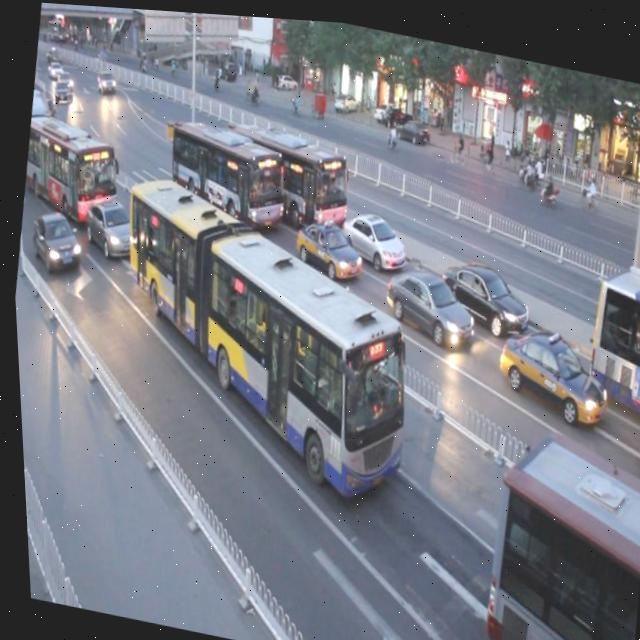car: (485, 319, 608, 424), (375, 256, 479, 349), (431, 249, 531, 335), (289, 211, 364, 281), (334, 199, 408, 267), (27, 205, 87, 275), (79, 187, 137, 259)
van: (92, 168, 430, 500), (463, 420, 640, 640), (160, 112, 291, 235), (234, 114, 356, 224), (18, 108, 122, 221), (577, 253, 640, 414)
